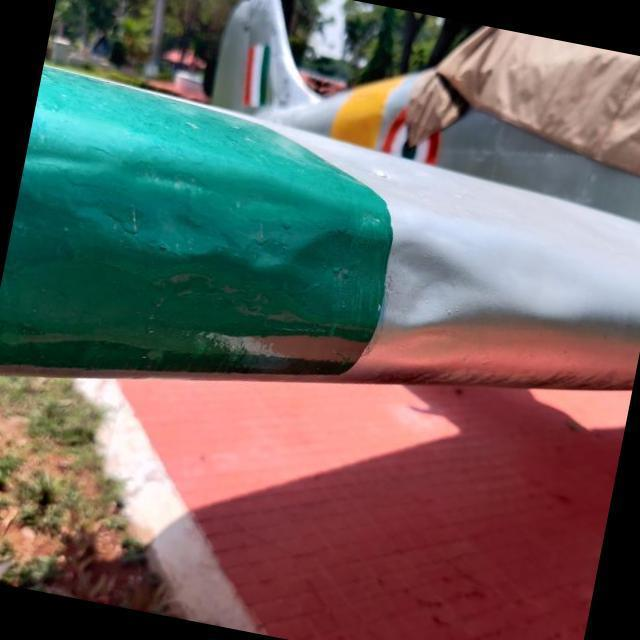dent: (3, 256, 333, 386), (29, 161, 308, 261), (268, 209, 502, 317)
